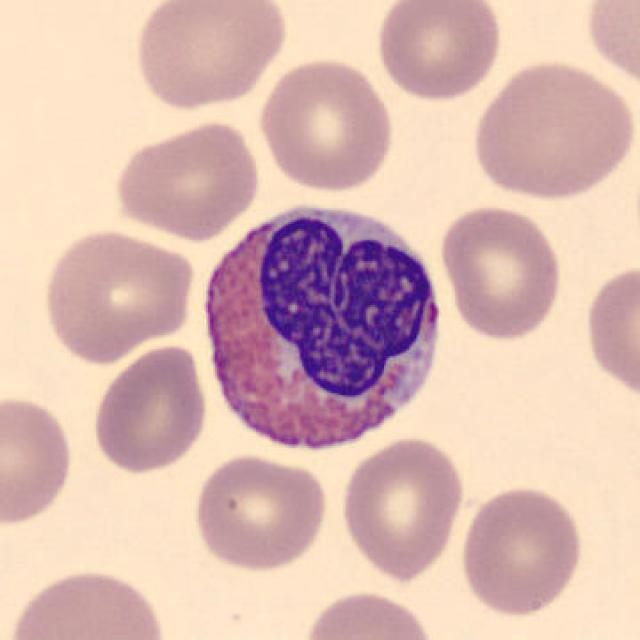Eosinophil: (192, 189, 455, 467)
RBC: (466, 54, 636, 202), (37, 224, 199, 365), (254, 53, 396, 194), (336, 434, 468, 584), (110, 116, 263, 242), (455, 481, 589, 619), (130, 0, 292, 113), (438, 201, 566, 342), (188, 451, 330, 575), (87, 342, 212, 476), (372, 0, 506, 104), (4, 564, 172, 640), (0, 391, 78, 529), (581, 257, 640, 409), (299, 585, 439, 640), (579, 0, 640, 93)
